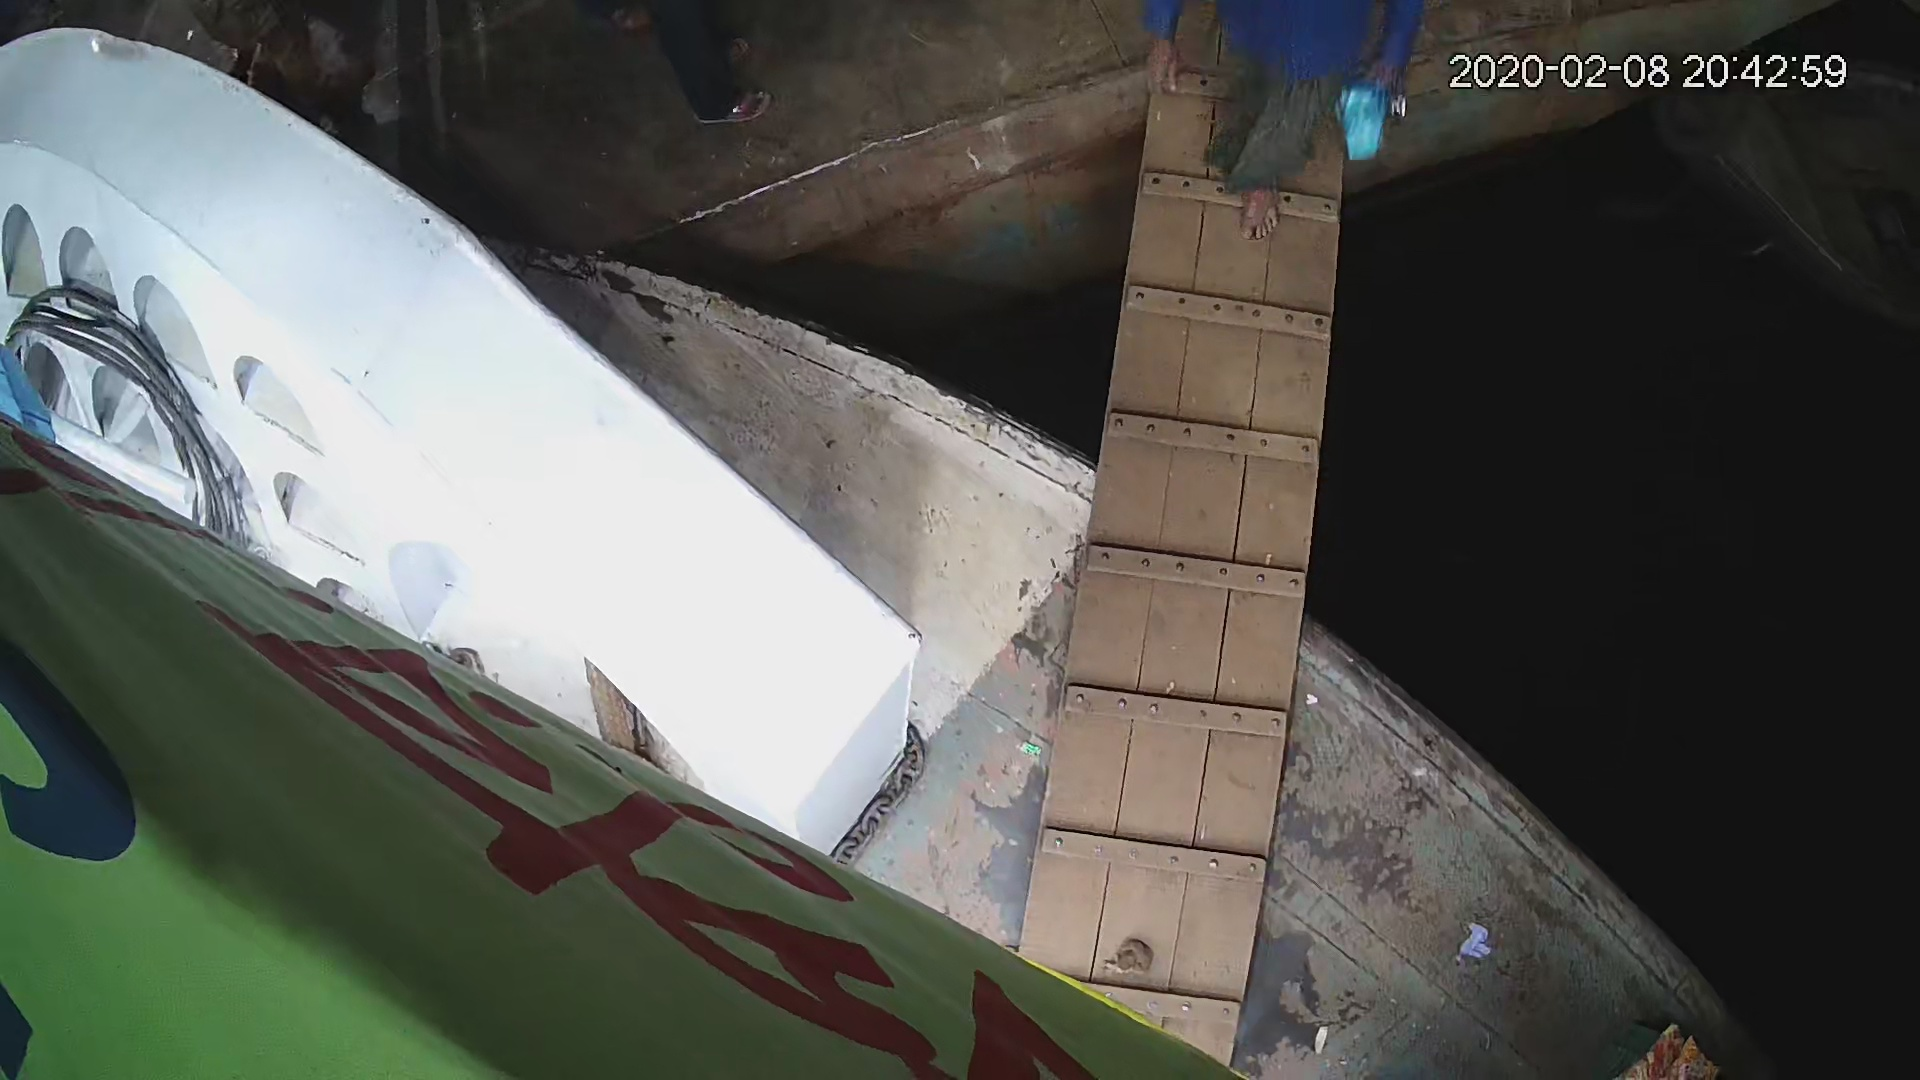person: (1146, 1, 1421, 247)
